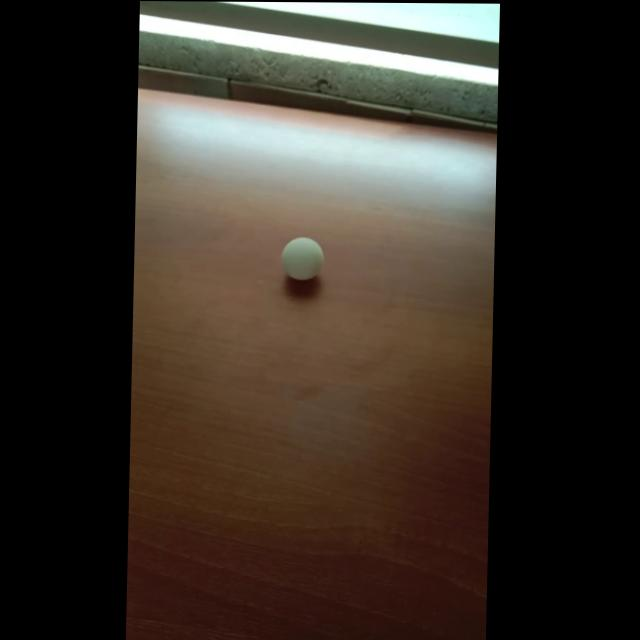white ball: (280, 236, 325, 280)
